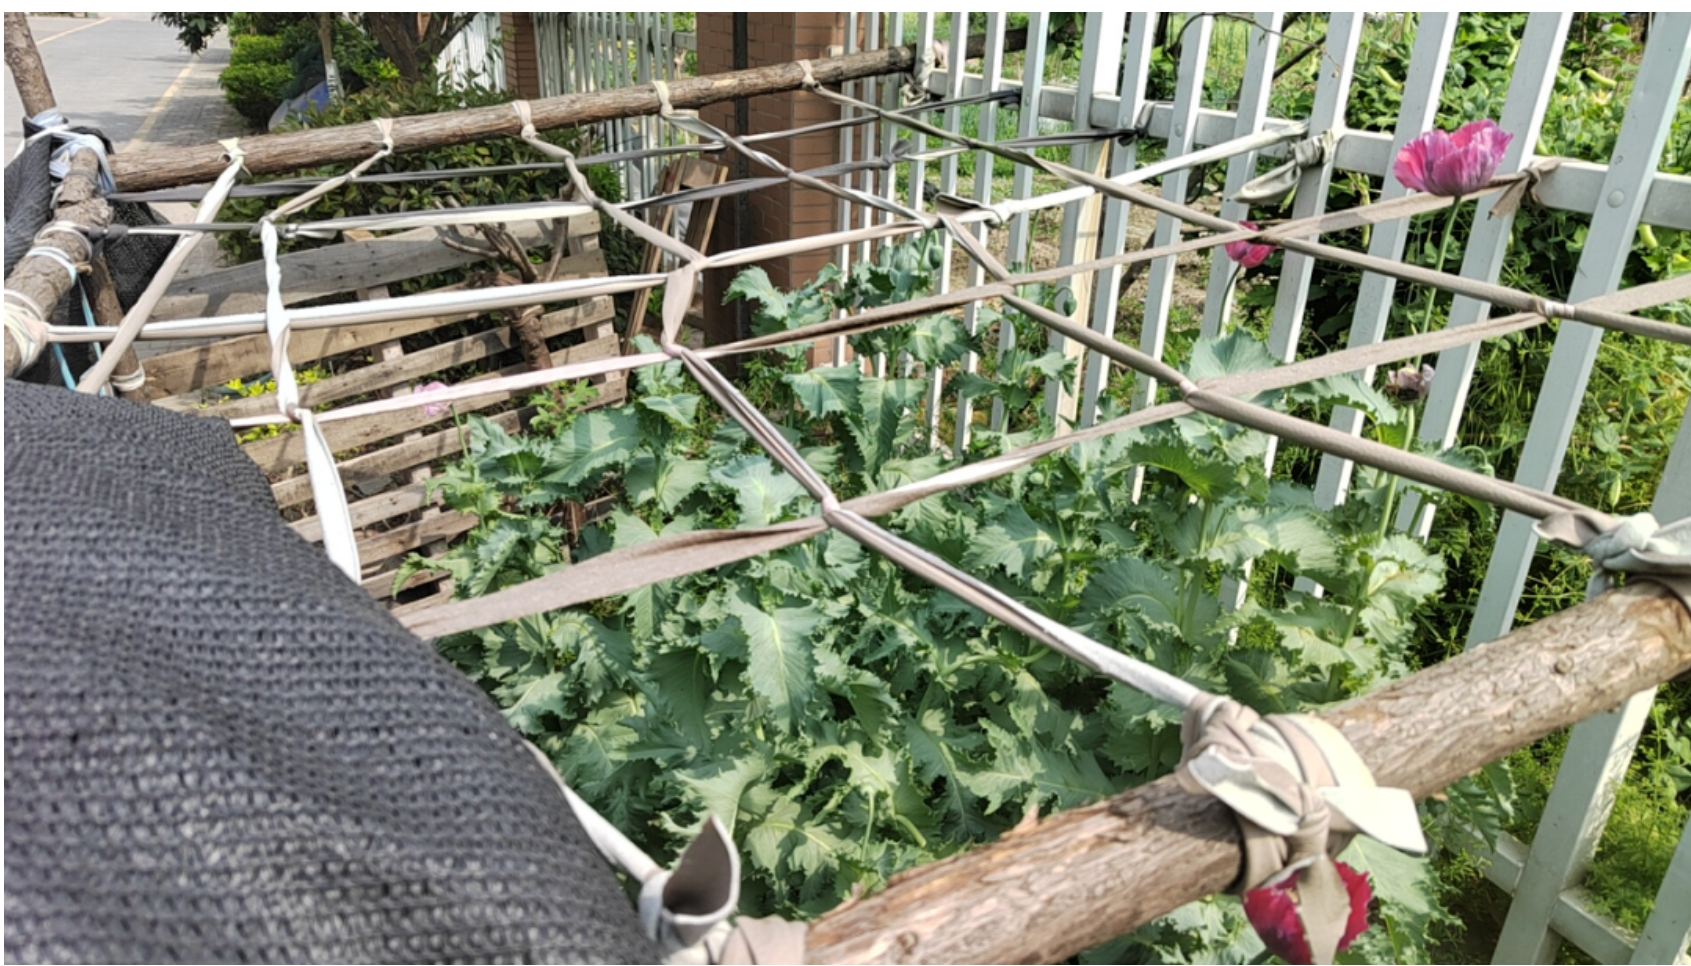Poppy: (446, 74, 1507, 872)
